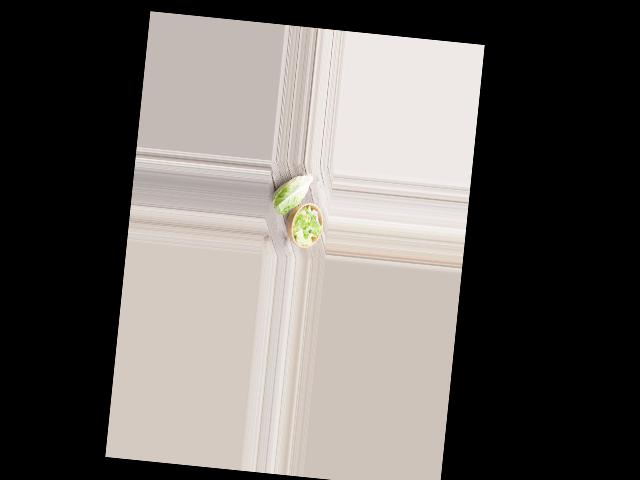lettuce: (269, 171, 313, 217)
